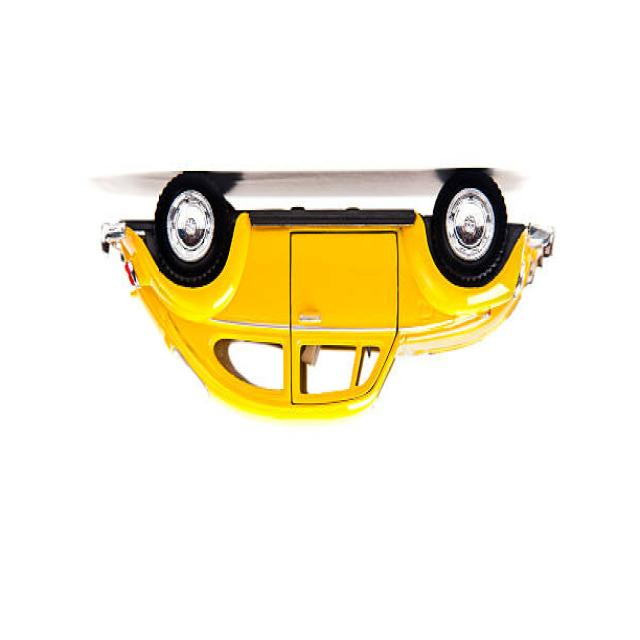Car: (102, 170, 556, 425)
